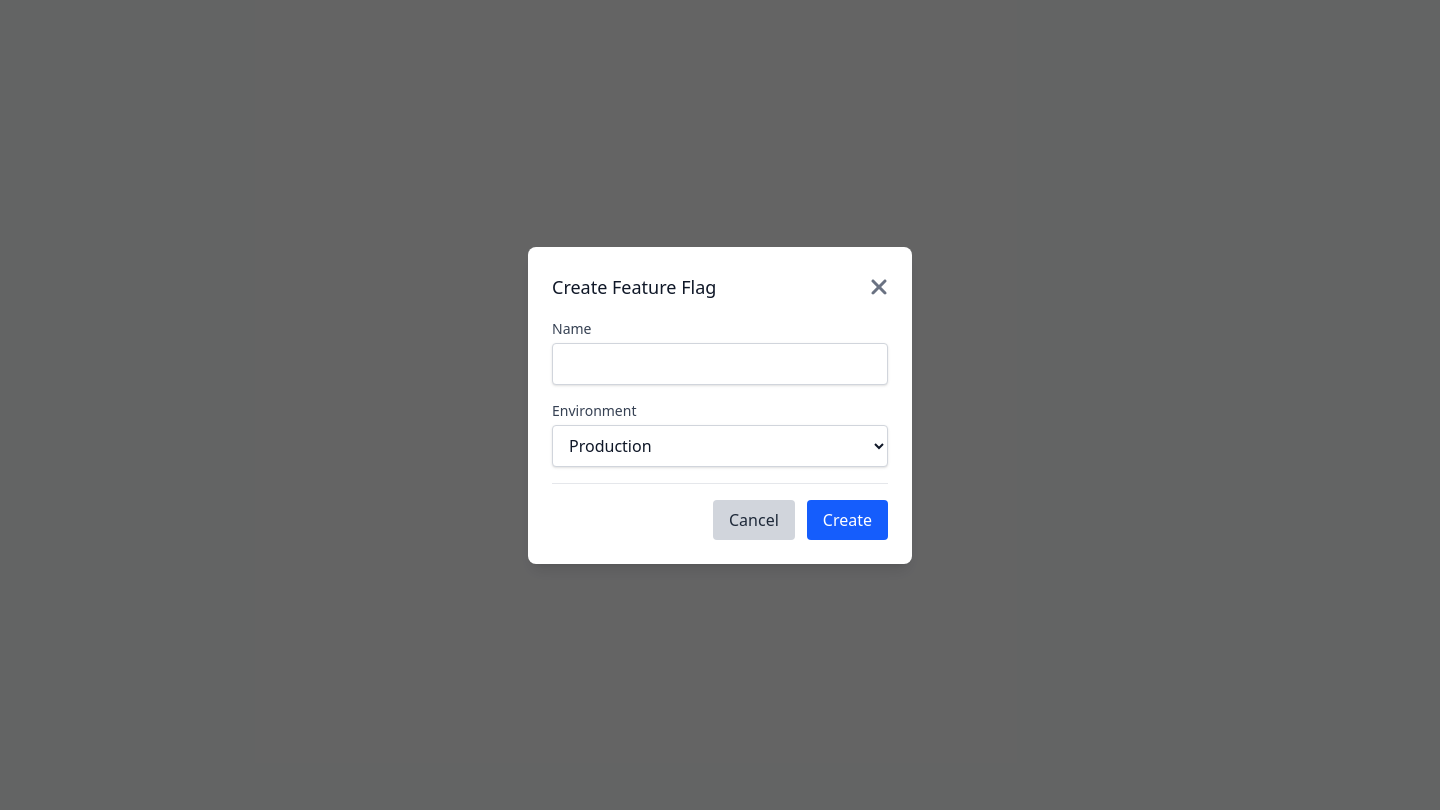
FlagForm component › shows API error when fetcher rejects with info.error
# give it a valid name so validation passes
In the field labelled "Name": (720, 364) [552, 342, 888, 384], type "FlagX"
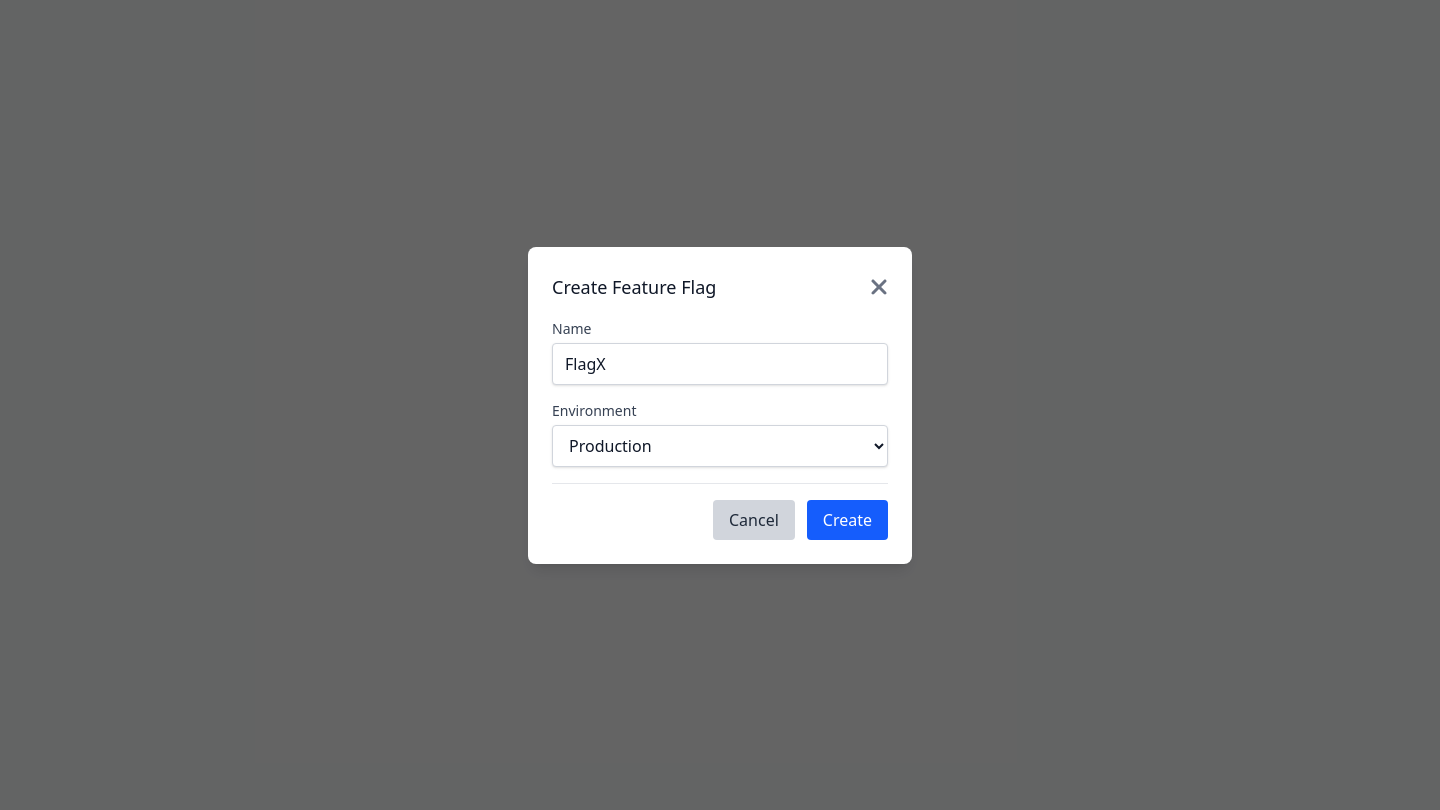
Click the button "Create": (847, 520) [807, 500, 888, 540]
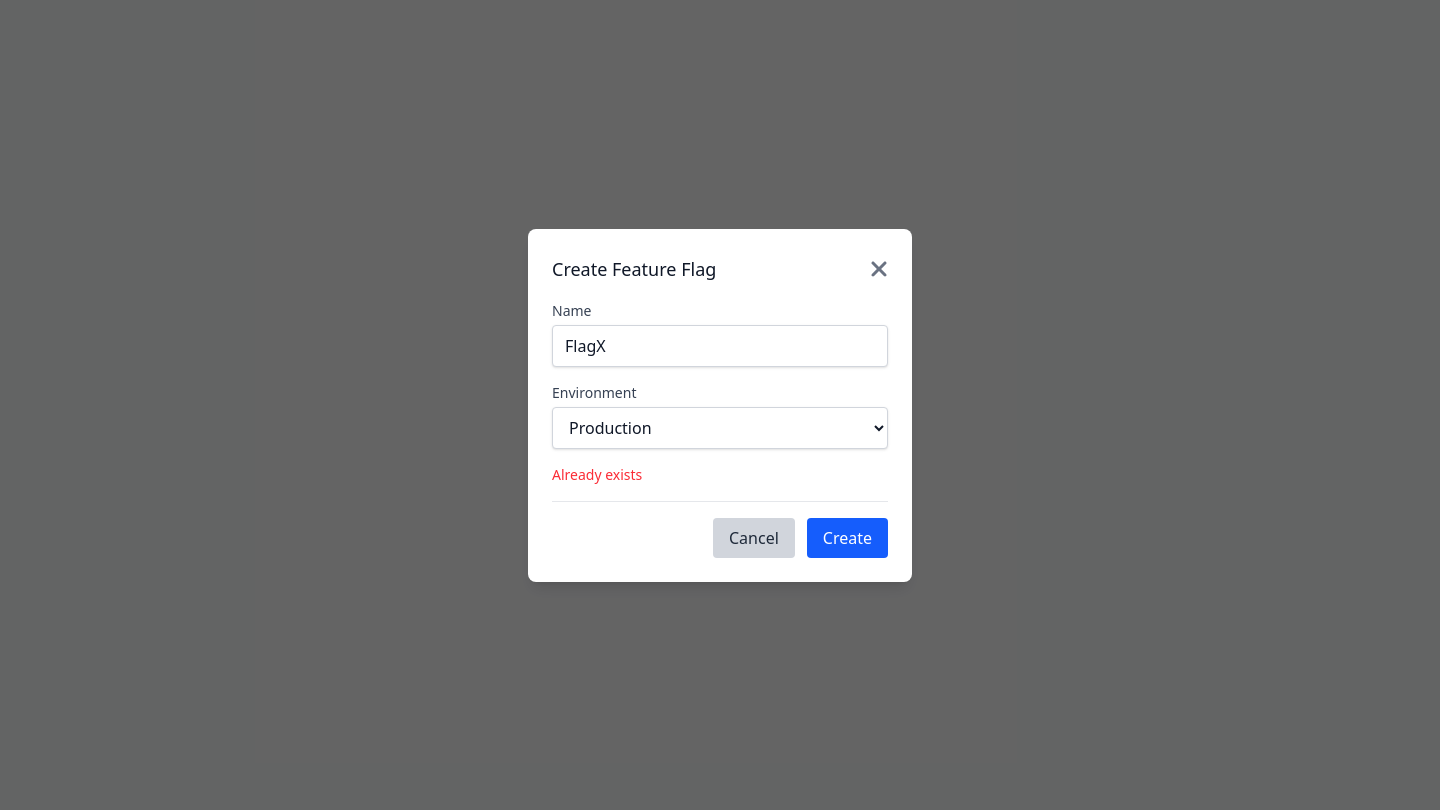
Result: the text "Already exists" is shown at [552, 464, 642, 484]
